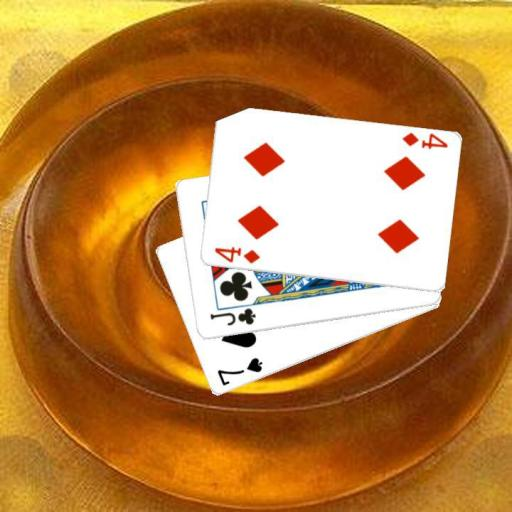4D: (210, 244, 261, 266), (398, 129, 449, 151)
7S: (214, 354, 264, 388)
JC: (206, 305, 257, 328)
